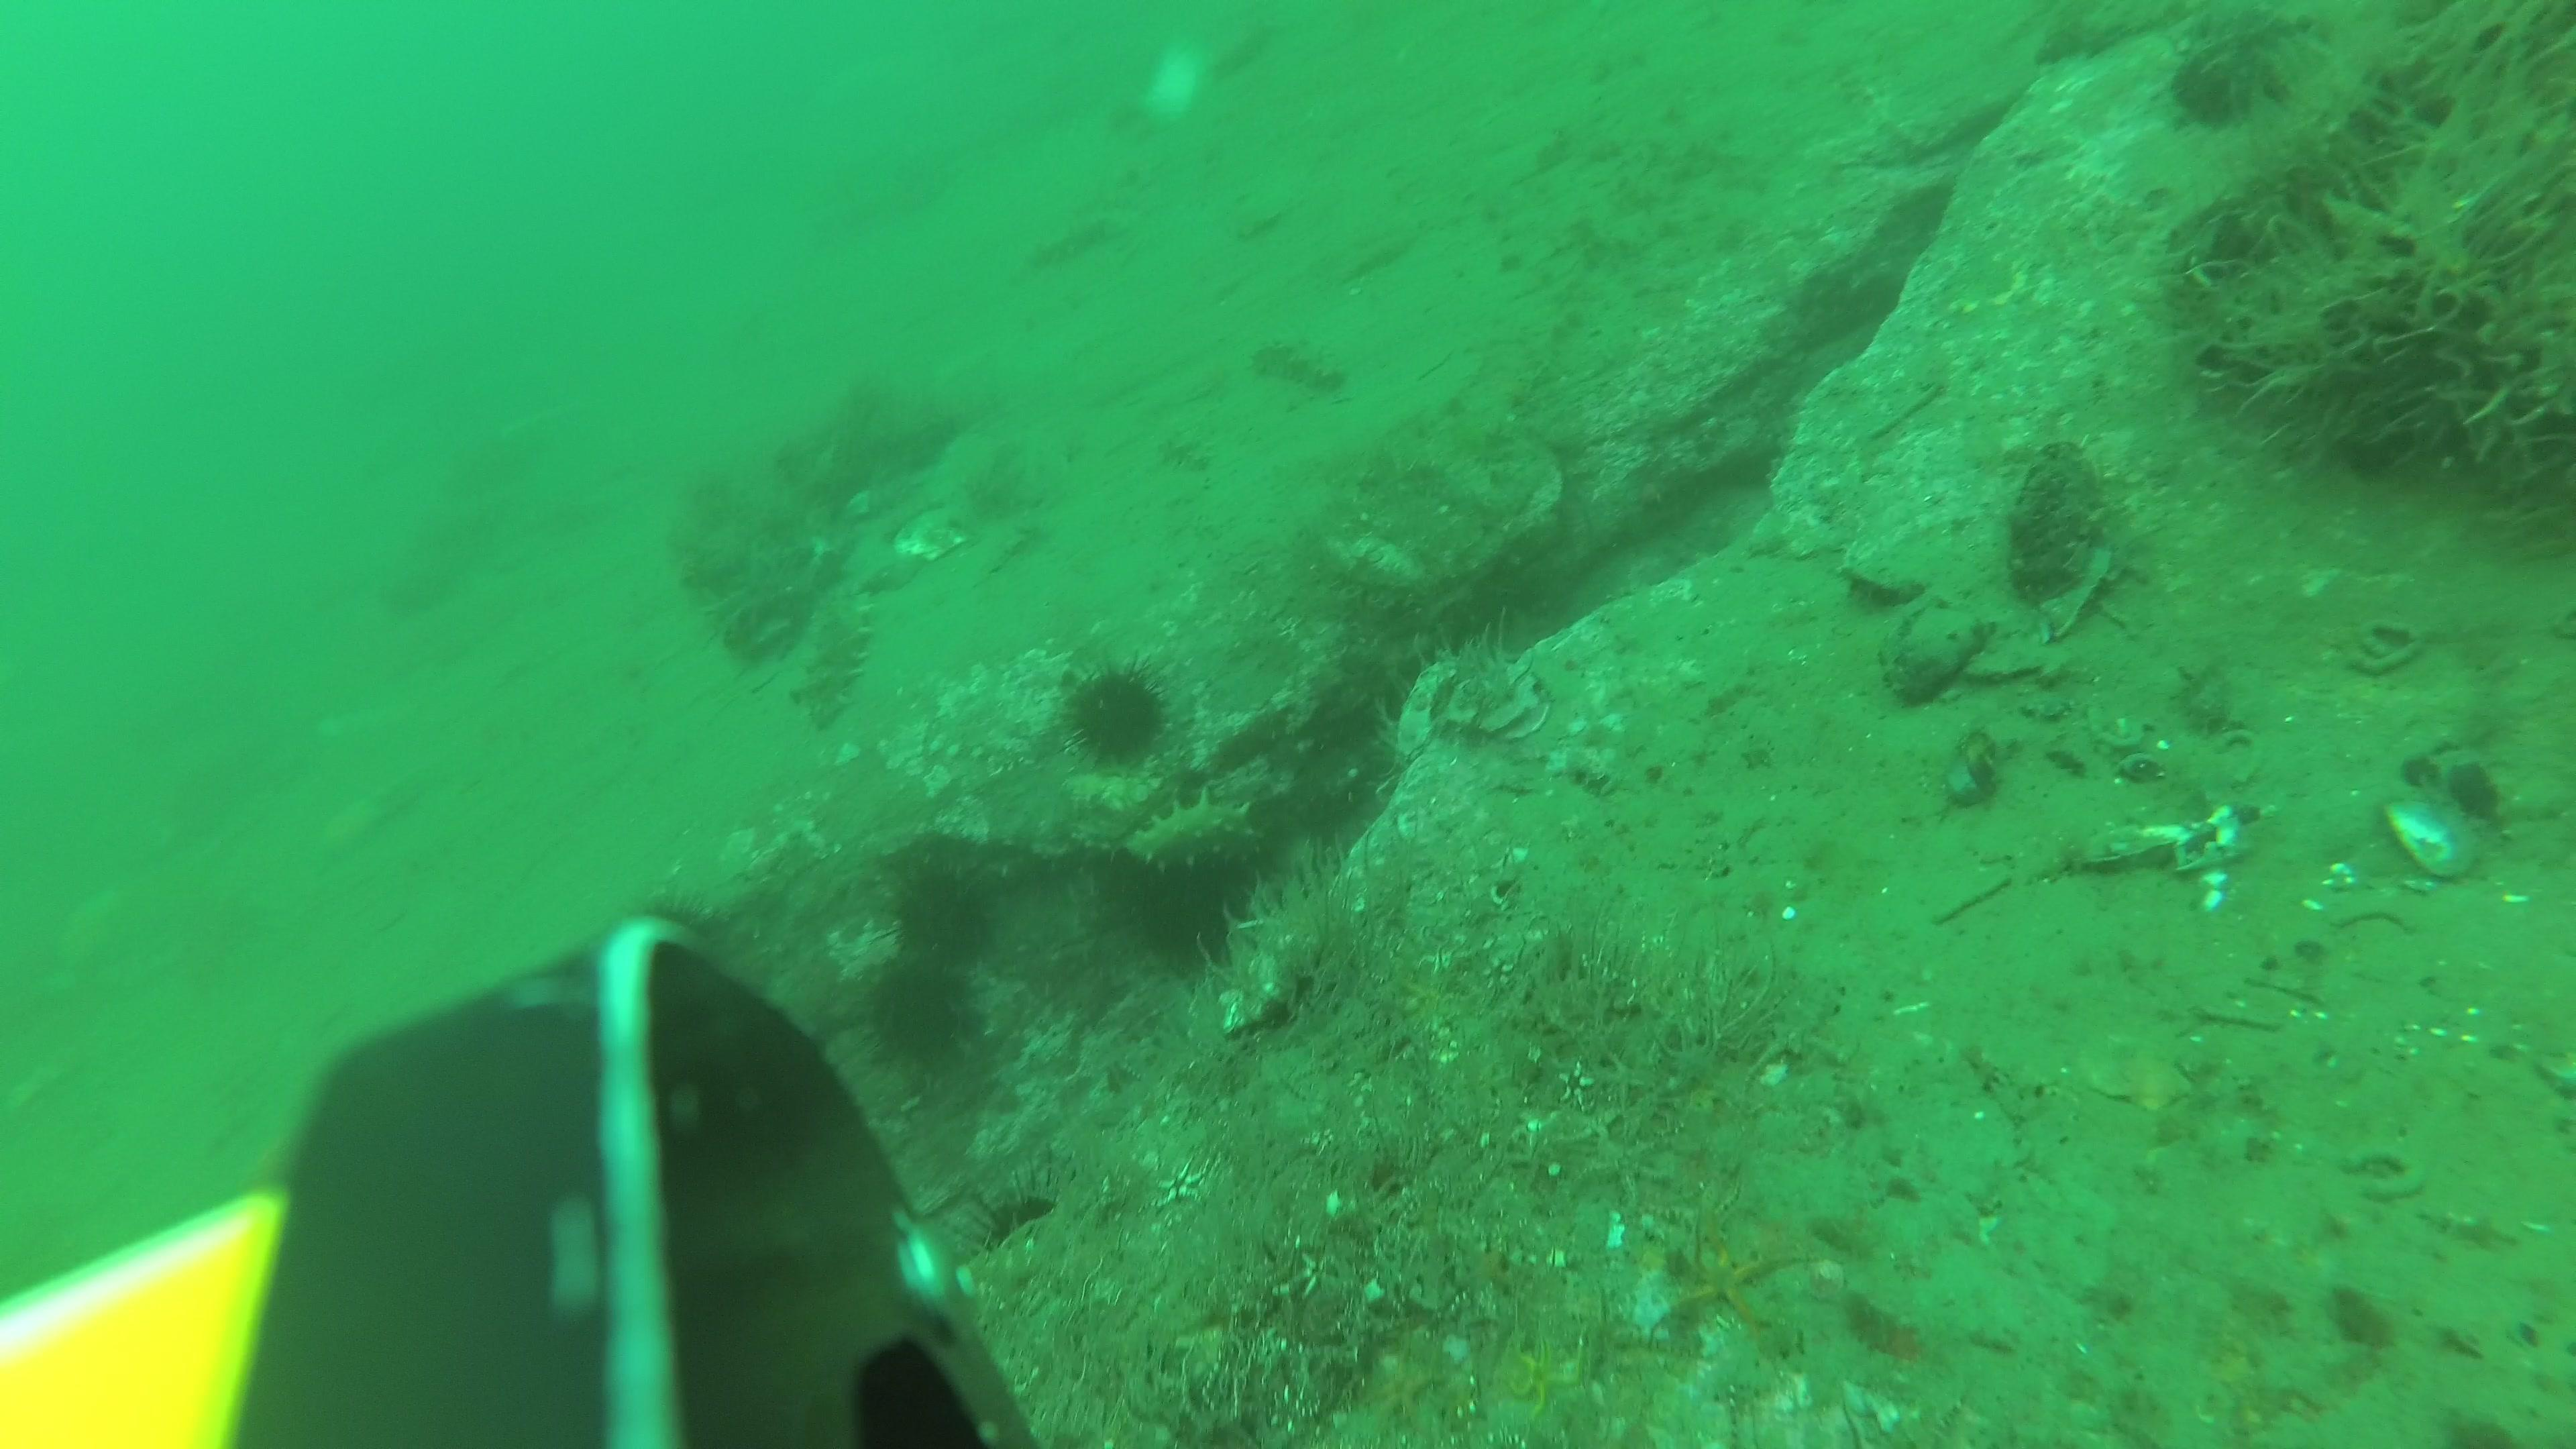echinus: (964, 1161, 1092, 1284), (856, 961, 985, 1077), (1058, 658, 1173, 780), (1136, 853, 1253, 971), (888, 862, 994, 973)
holothurian: (801, 594, 874, 732), (1136, 796, 1258, 872), (1247, 338, 1348, 395), (1028, 216, 1116, 267), (1210, 19, 1272, 87), (1157, 428, 1214, 478), (1111, 81, 1162, 133)
scallop: (2081, 1030, 2197, 1115), (899, 508, 971, 568), (1231, 182, 1293, 241)
starfish: (1658, 1219, 1794, 1339), (1504, 1339, 1589, 1415), (1371, 1364, 1435, 1433)
